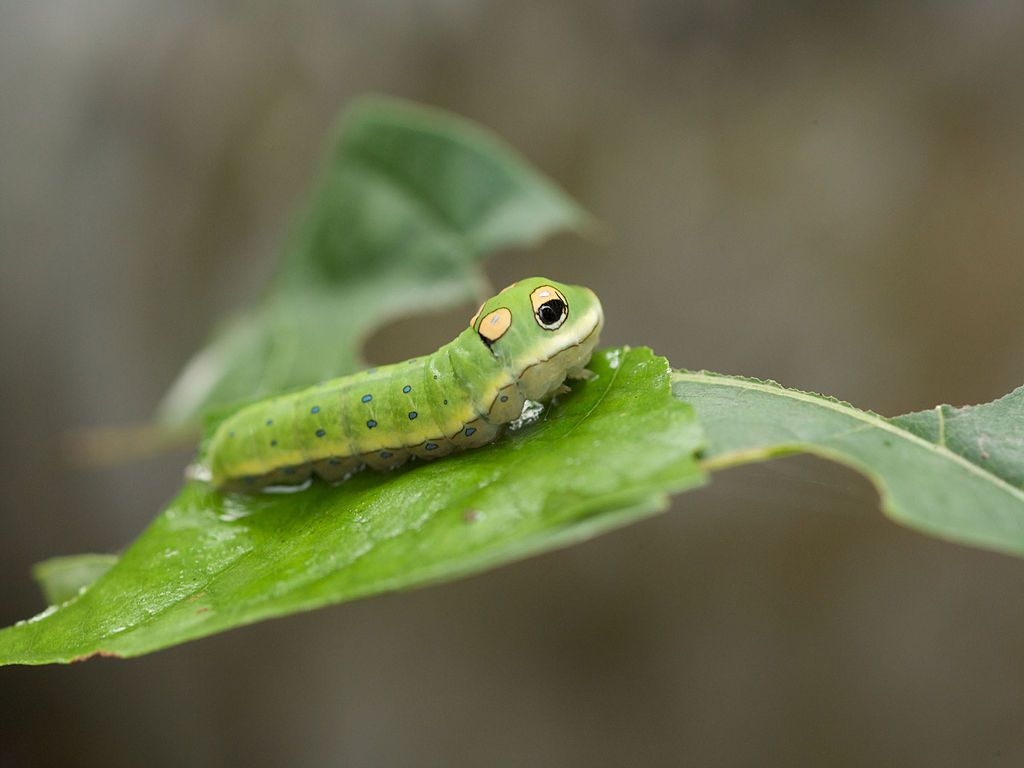Caterpillar: (212, 278, 607, 487)
